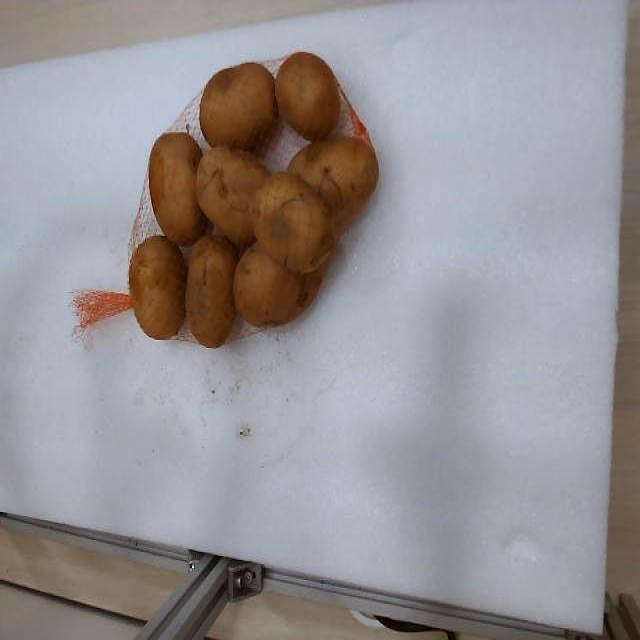potato: (288, 137, 379, 232), (252, 172, 336, 272), (235, 243, 321, 326), (199, 63, 278, 149), (198, 150, 268, 244), (149, 133, 208, 244), (129, 235, 186, 339), (185, 235, 238, 346), (275, 52, 340, 139)
